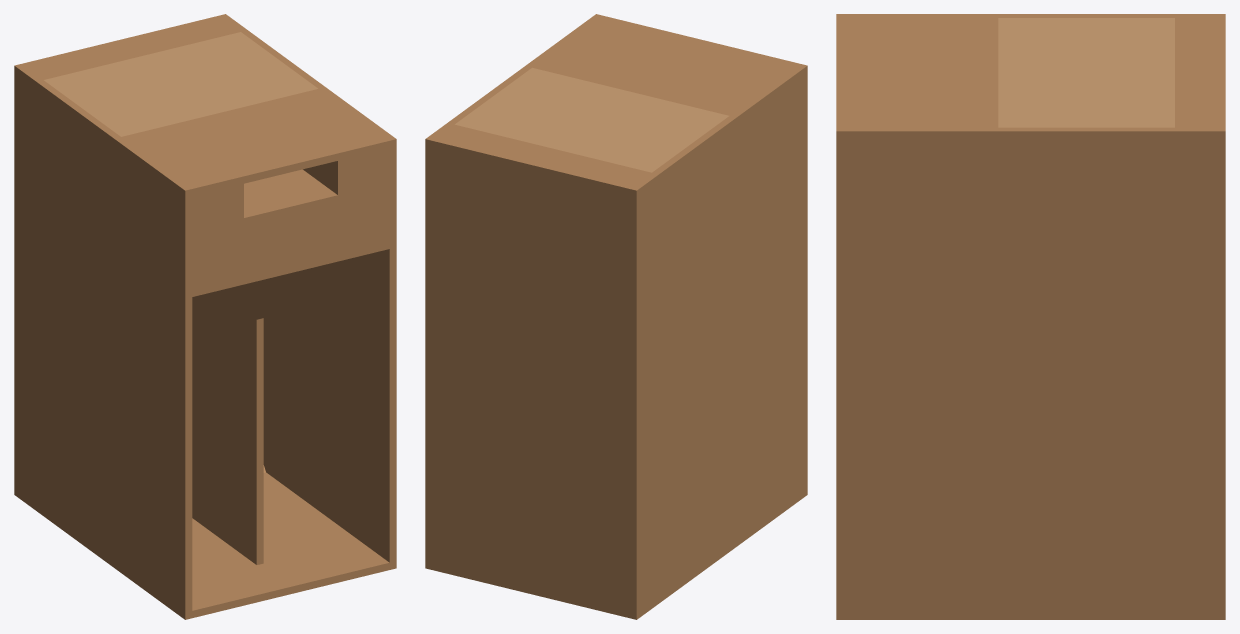
File: tha-fighter-horn-15.glb
The picture shows the model from 3 angles, left to right: view 1: azimuth 30°, elevation 25°; view 2: azimuth 150°, elevation 25°; view 3: azimuth 270°, elevation 25°; orthographic projection. The views are drawn at different scales.
Visible parts, largest first — view 1: Side wall -X, Side wall +X, Front panel, Top front, Hatch lid, Centre divider, Bottom, Flare roof, Top back, Port floor; view 2: Back wall, Side wall -X, Hatch lid, Top front, Top back, Side wall +X, Bottom; view 3: Side wall +X, Hatch lid, Top front, Top back, Side wall -X.
Boxes of the visible parts, x1=… form: Side wall -X: x1=14, y1=64, x2=192, y2=619; Side wall +X: x1=219, y1=14, x2=396, y2=569; Front panel: x1=192, y1=148, x2=389, y2=294; Top front: x1=121, y1=89, x2=389, y2=196; Hatch lid: x1=44, y1=32, x2=317, y2=136; Centre divider: x1=192, y1=318, x2=263, y2=564; Bottom: x1=192, y1=472, x2=389, y2=617; Flare roof: x1=192, y1=246, x2=389, y2=368; Top back: x1=22, y1=15, x2=240, y2=79; Port floor: x1=244, y1=169, x2=333, y2=213; Back wall: x1=432, y1=148, x2=629, y2=610; Side wall -X: x1=629, y1=64, x2=807, y2=619; Hatch lid: x1=455, y1=67, x2=728, y2=172; Top front: x1=532, y1=15, x2=799, y2=115; Top back: x1=432, y1=124, x2=651, y2=196; Side wall +X: x1=425, y1=14, x2=602, y2=569; Bottom: x1=432, y1=563, x2=629, y2=617; Side wall +X: x1=836, y1=127, x2=1225, y2=619; Hatch lid: x1=998, y1=18, x2=1174, y2=127; Top front: x1=836, y1=18, x2=998, y2=127; Top back: x1=1175, y1=18, x2=1225, y2=127; Side wall -X: x1=836, y1=14, x2=1225, y2=17.
Bounding box in the file's own units: 0.45 × 0.873 × 0.63.
